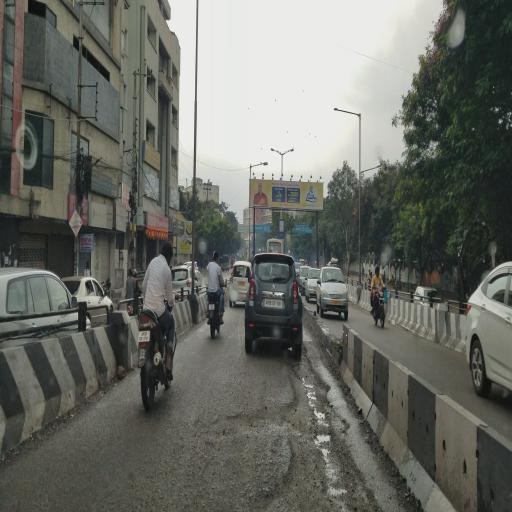street_light_0: (333, 96, 361, 126), (250, 154, 272, 183), (282, 138, 298, 160), (266, 142, 282, 164)
